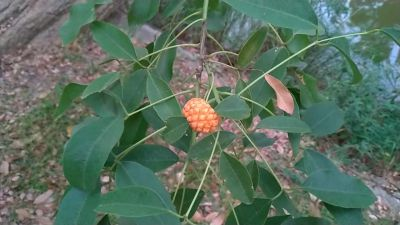eggs: (182, 95, 221, 137)
